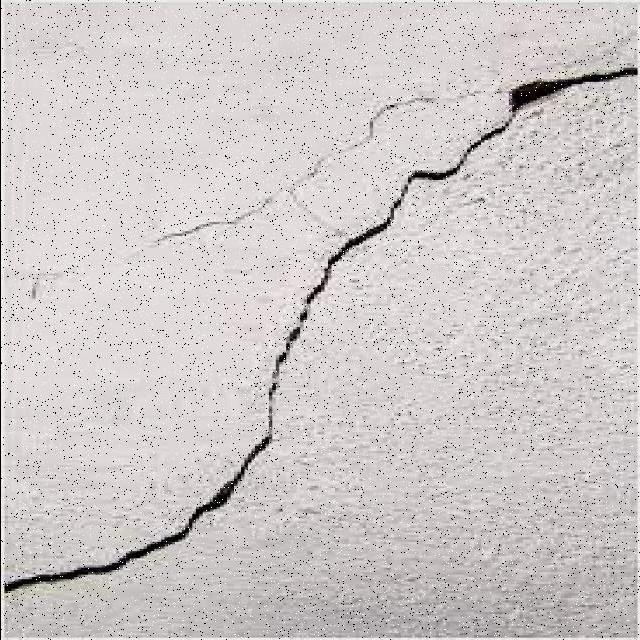Crack: (306, 48, 607, 376)
